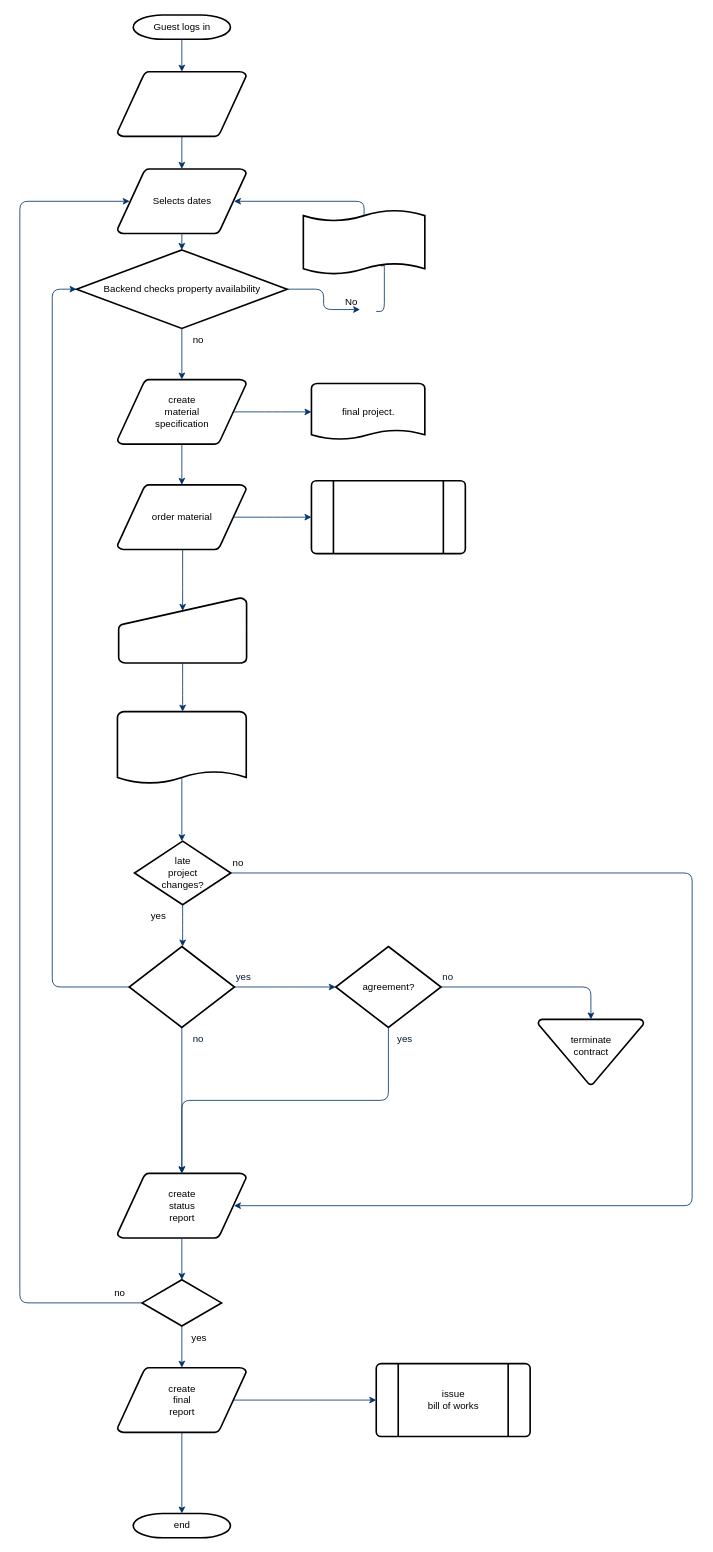
This 713x1552 diagram has some shape labels left out. The box of each missing label's shape, as (x1, y1, x2, y2) in pixels:
create Gantt diagram: (116, 710, 247, 785)
investor disapproves investment?: (128, 945, 235, 1028)
iron out obscurities with investor: (302, 208, 425, 275)
material balance: (310, 480, 466, 554)
organize workforce: (117, 597, 247, 663)
project complete?: (141, 1279, 222, 1326)
Searches for property: (116, 70, 247, 137)
